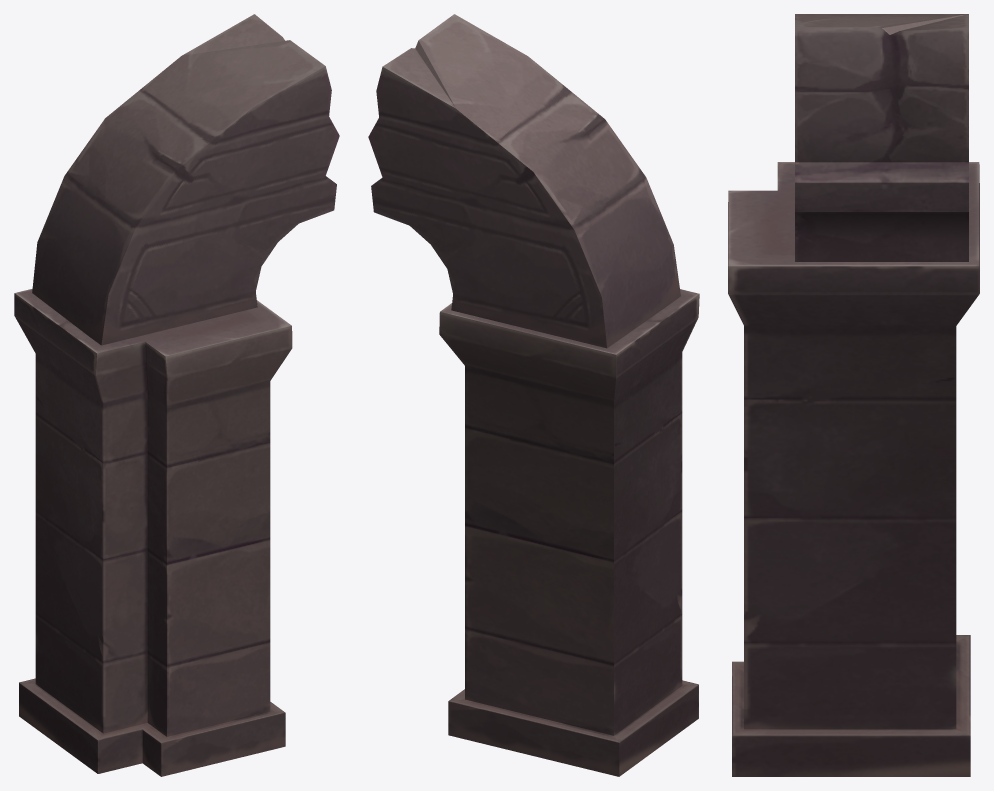
File: Boss_10.FBX
3 views of the same model, side by side, from view 1: azimuth 30°, elevation 25°; view 2: azimuth 150°, elevation 25°; view 3: azimuth 270°, elevation 25° (orthographic). The views are drawn at different scales.
Parts seen in each view (by area): view 1: Boss_10; view 2: Boss_10; view 3: Boss_10.
Boxes of the visible parts, x1,y1,x2,y2 form: Boss_10: (14, 14, 339, 776); Boss_10: (368, 14, 699, 776); Boss_10: (728, 14, 979, 776).
Size of the model in its own units: 3.49 by 8.62 by 2.5.
